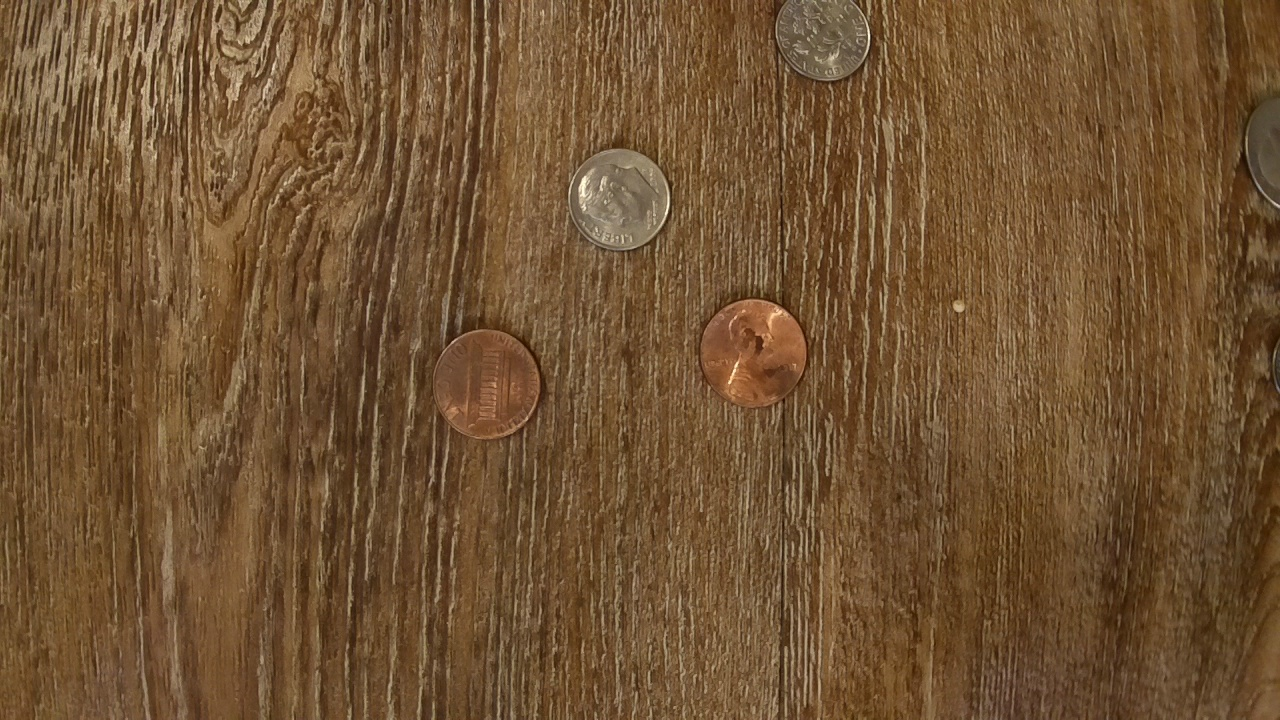dime: (565, 146, 675, 254), (772, 1, 874, 87)
penny: (430, 323, 544, 445), (693, 294, 811, 408)
